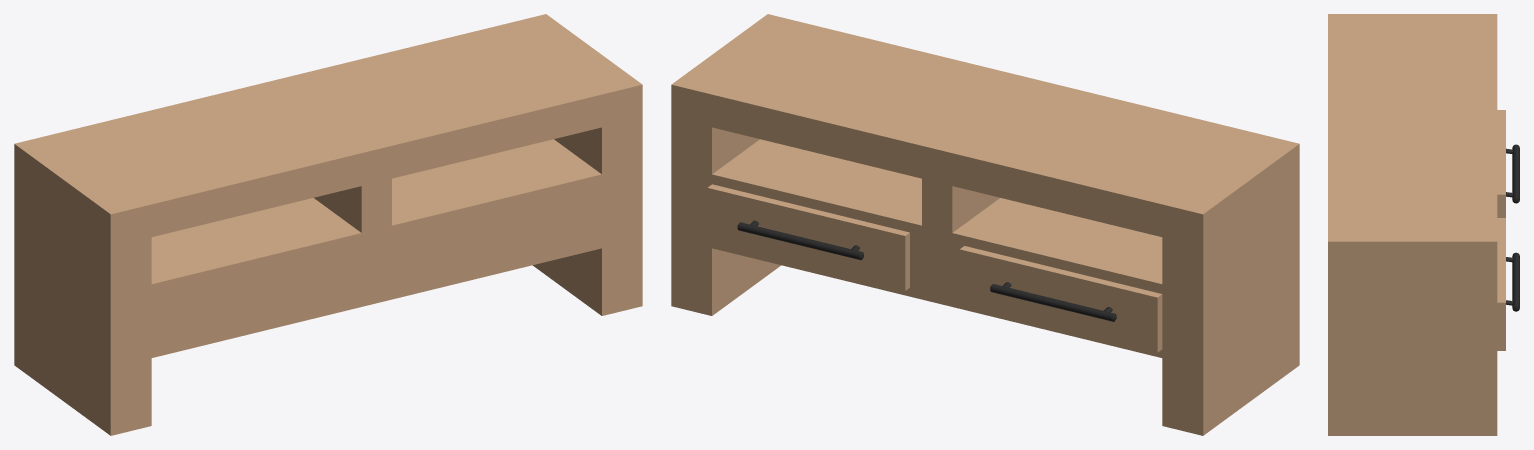
Rendered from MeubleTV_8.fbx.
3 views of the same model, side by side, from view 1: azimuth 30°, elevation 25°; view 2: azimuth 150°, elevation 25°; view 3: azimuth 270°, elevation 25° (orthographic). The views are drawn at different scales.
Parts seen in each view (by area): view 1: pCube2453; view 2: pCube2453, pCube2455, pCube2454, pCylinder1565, pCylinder1700; view 3: pCube2453, pCube2454, pCube2455, pCylinder1565, pCylinder1700.
Boxes of the visible parts, x1,y1,x2,y2 form: pCube2453: (14, 14, 642, 435); pCube2453: (671, 14, 1299, 435); pCube2455: (959, 246, 1162, 352); pCube2454: (707, 184, 909, 290); pCylinder1565: (990, 284, 1116, 321); pCylinder1700: (737, 222, 863, 260); pCube2453: (1328, 14, 1497, 435); pCube2454: (1497, 218, 1505, 350); pCube2455: (1497, 110, 1505, 217); pCylinder1565: (1512, 144, 1519, 203); pCylinder1700: (1512, 252, 1519, 311).
Size of the model in its own units: 86.34 by 34.37 by 30.74.
